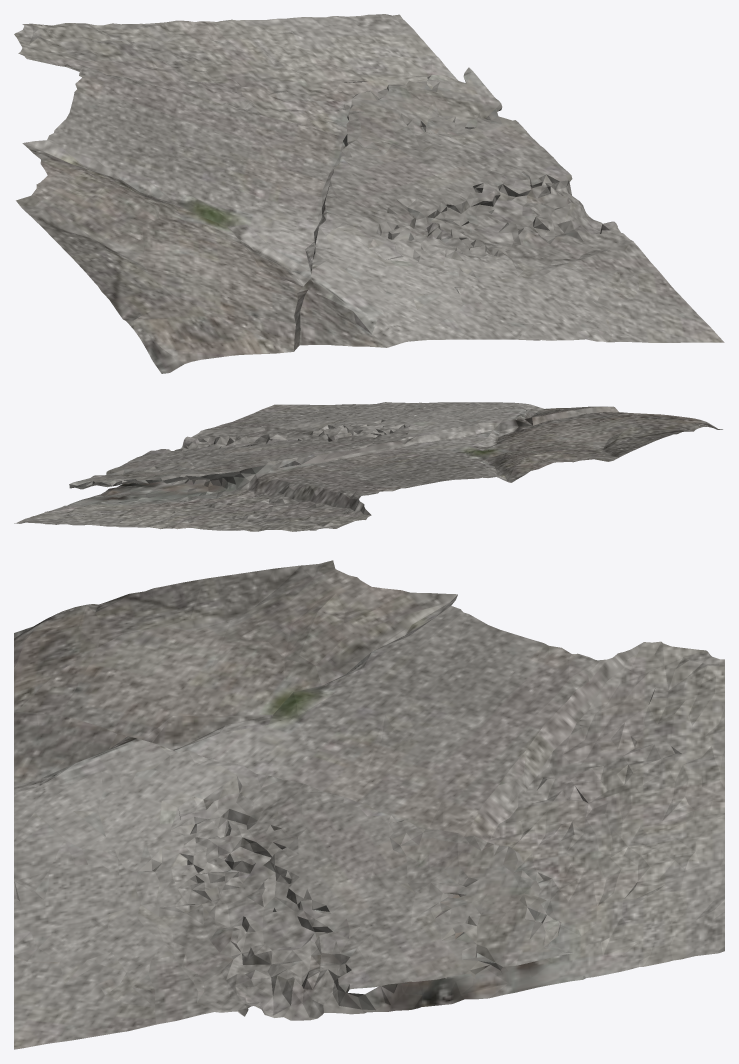
The picture shows the model from 3 angles, top to bottom: view 1: azimuth 30°, elevation 25°; view 2: azimuth 150°, elevation 25°; view 3: azimuth 270°, elevation 25°; orthographic projection. The views are drawn at different scales.
Bounding box in the file's own units: 1.67 × 0.4911 × 1.67.
3 materials, 3 textured.
